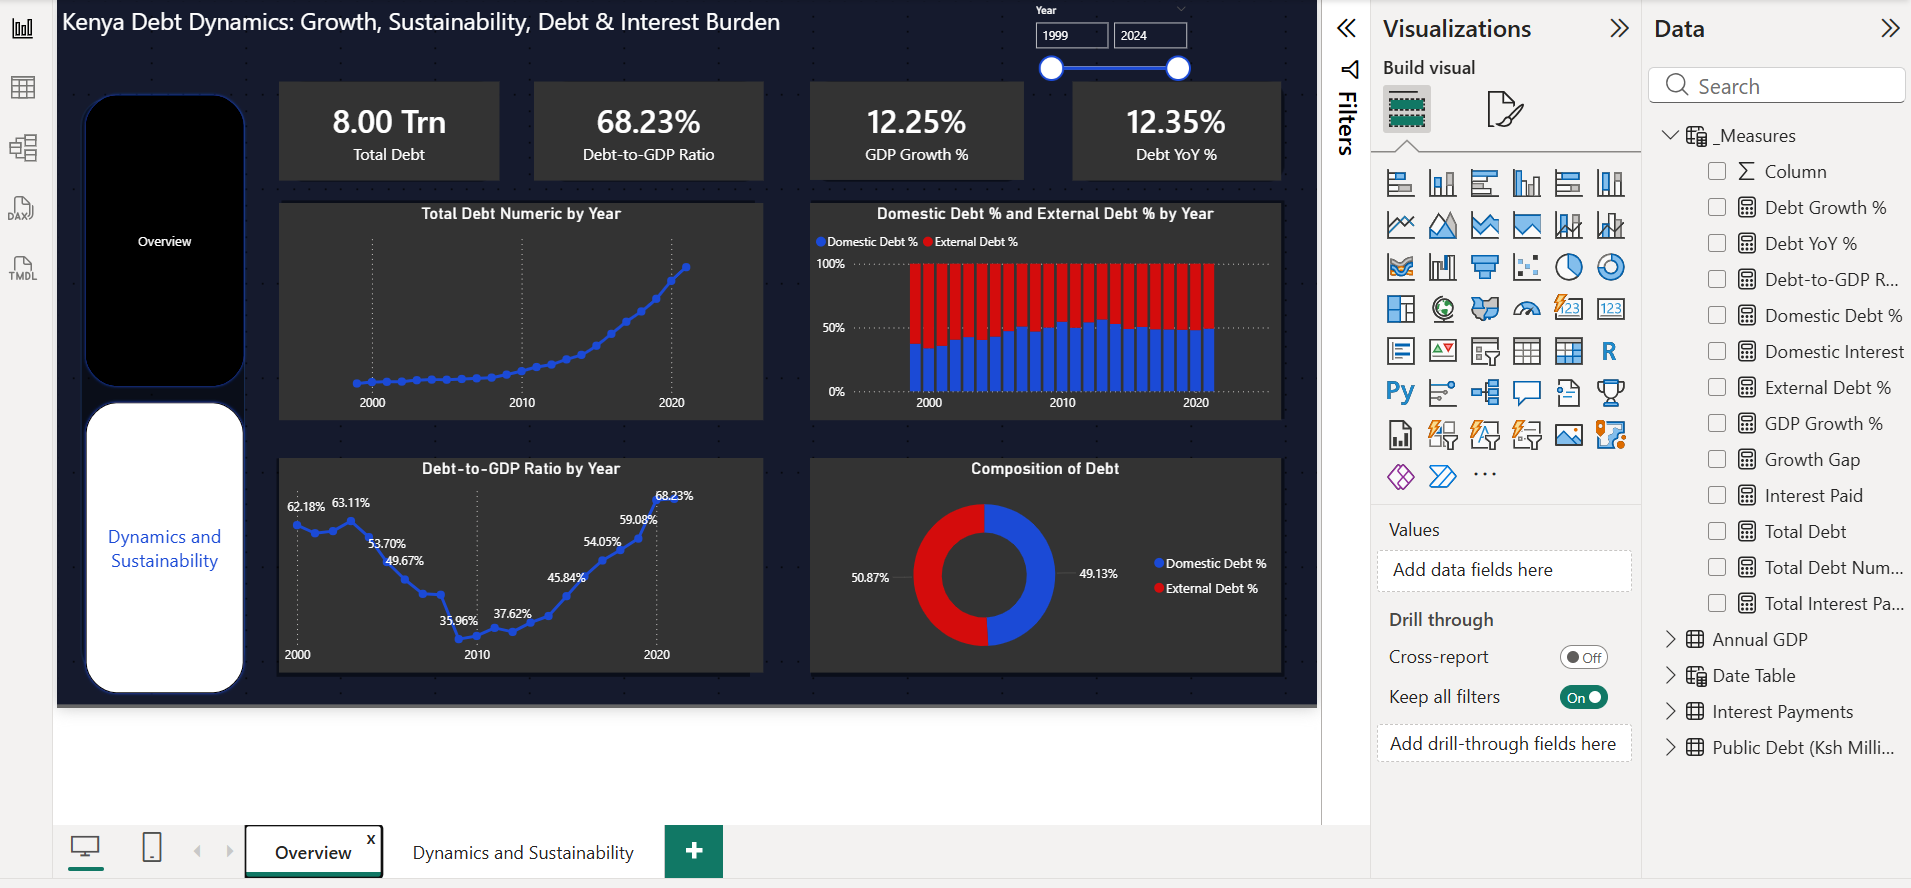

What the dashboard file says about the page in this screenshot:
{"tool":"powerbi","page":{"name":"Overview","canvas":[1280,720],"ordinal":0},"visuals":[{"type":"lineChart","fields":{"Category":["Date Table.Year"],"Y":["_Measures.Total Debt Numeric"]},"box":[225.5,207.2,492.2,221],"z":0},{"type":"lineChart","fields":{"Category":["Date Table.Year"],"Y":["_Measures.Debt-to-GDP Ratio"]},"box":[225.5,466.3,492.2,217.9],"z":1000},{"type":"hundredPercentStackedColumnChart","fields":{"Category":["Public Debt (Ksh Million).Year"],"Y":["_Measures.Domestic Debt %","_Measures.External Debt %"]},"box":[765,207.2,478.5,221],"z":2000},{"type":"donutChart","title":"Composition of Debt","fields":{"Y":["_Measures.Domestic Debt %","_Measures.External Debt %"]},"box":[765,466.3,478.5,217.9],"z":3000},{"type":"slicer","fields":{"Values":["Date Table.Year"]},"box":[981.3,0,178.3,83.8],"z":4000},{"type":"pageNavigator","box":[25.9,94.5,167.6,615.6],"z":5000},{"type":"textbox","box":[0,0,953.9,51.8],"z":6000},{"type":"cardVisual","fields":{"Data":["_Measures.Total Debt"]},"box":[225.5,83.8,224,100.6],"z":7000},{"type":"cardVisual","fields":{"Data":["_Measures.Debt-to-GDP Ratio"]},"box":[484.6,83.8,233.1,100.6],"z":8000},{"type":"cardVisual","fields":{"Data":["_Measures.GDP Growth %"]},"box":[765,83.8,217,100],"z":9000},{"type":"cardVisual","fields":{"Data":["_Measures.Debt YoY %"]},"box":[1031.6,83.8,211.8,100.6],"z":10000}]}

Visuals, with their boxes on the page's 1280x720 design canvas (x1, y1, x2, y2). These are canvas units, not pixel positions in the 1911x888 screenshot, which may show the page scaled, cropped or inside an application window:
lineChart - Date Table.Year x _Measures.Total Debt Numeric: 226/207/718/428
lineChart - Date Table.Year x _Measures.Debt-to-GDP Ratio: 226/466/718/684
hundredPercentStackedColumnChart - Public Debt (Ksh Million).Year x _Measures.Domestic Debt %: 765/207/1244/428
"Composition of Debt" donutChart: 765/466/1244/684
slicer - Date Table.Year: 981/0/1160/84
pageNavigator: 26/94/194/710
textbox: 0/0/954/52
cardVisual - _Measures.Total Debt: 226/84/450/184
cardVisual - _Measures.Debt-to-GDP Ratio: 485/84/718/184
cardVisual - _Measures.GDP Growth %: 765/84/982/184
cardVisual - _Measures.Debt YoY %: 1032/84/1243/184
